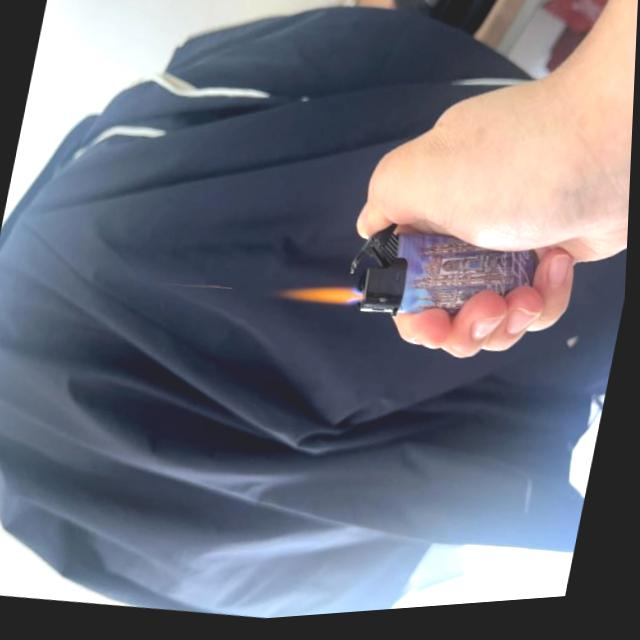Fire: (280, 278, 363, 322)
